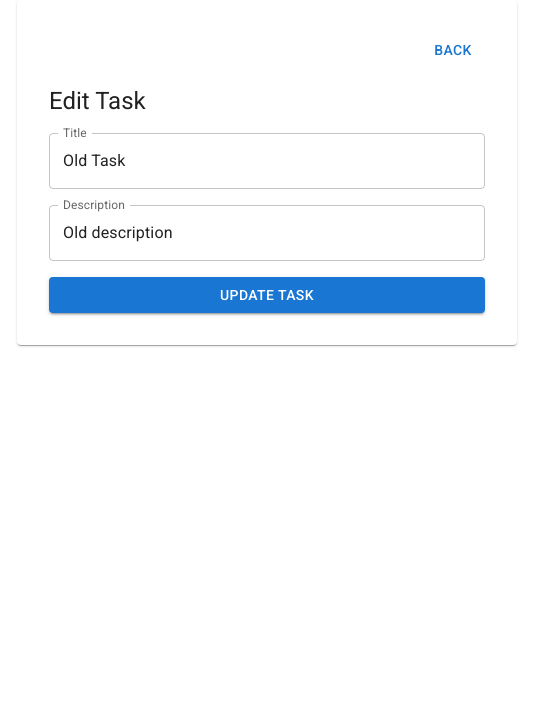
Test: TaskForm › edits an existing task and shows success snackbar
Replace the text in the field labelled "Title" with "Updated Task" at (267, 160), box x1=49 y1=132 x2=485 y2=188
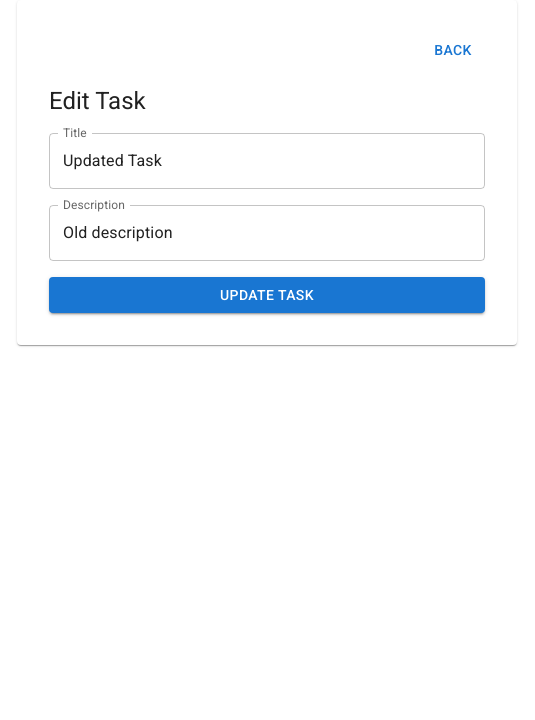
Replace the text in the field labelled "Description" with "Updated Description" at (267, 232), box x1=49 y1=204 x2=485 y2=260
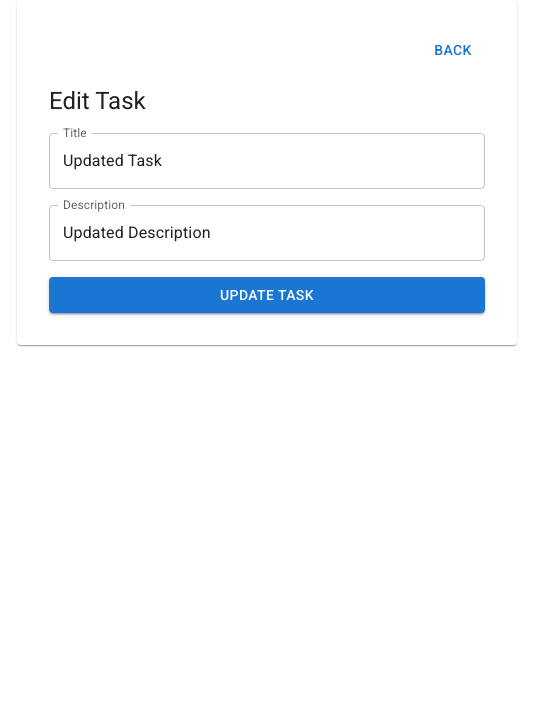
Click the button "Update Task".
click(267, 295)  # box x1=49 y1=276 x2=485 y2=313
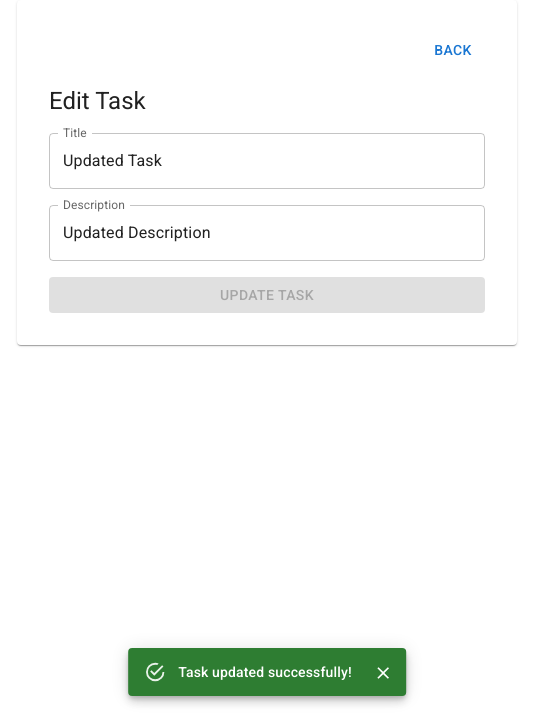
Expected: the text "Task updated successfully!" is shown, x1=178 y1=664 x2=352 y2=680
